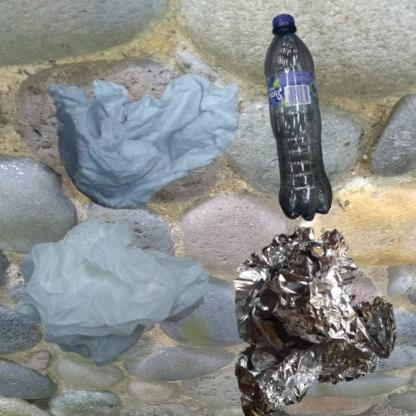aluminio: (213, 213, 414, 416)
bolsa: (10, 213, 216, 376)
botella: (213, 10, 410, 265)
papel: (10, 10, 284, 271)
